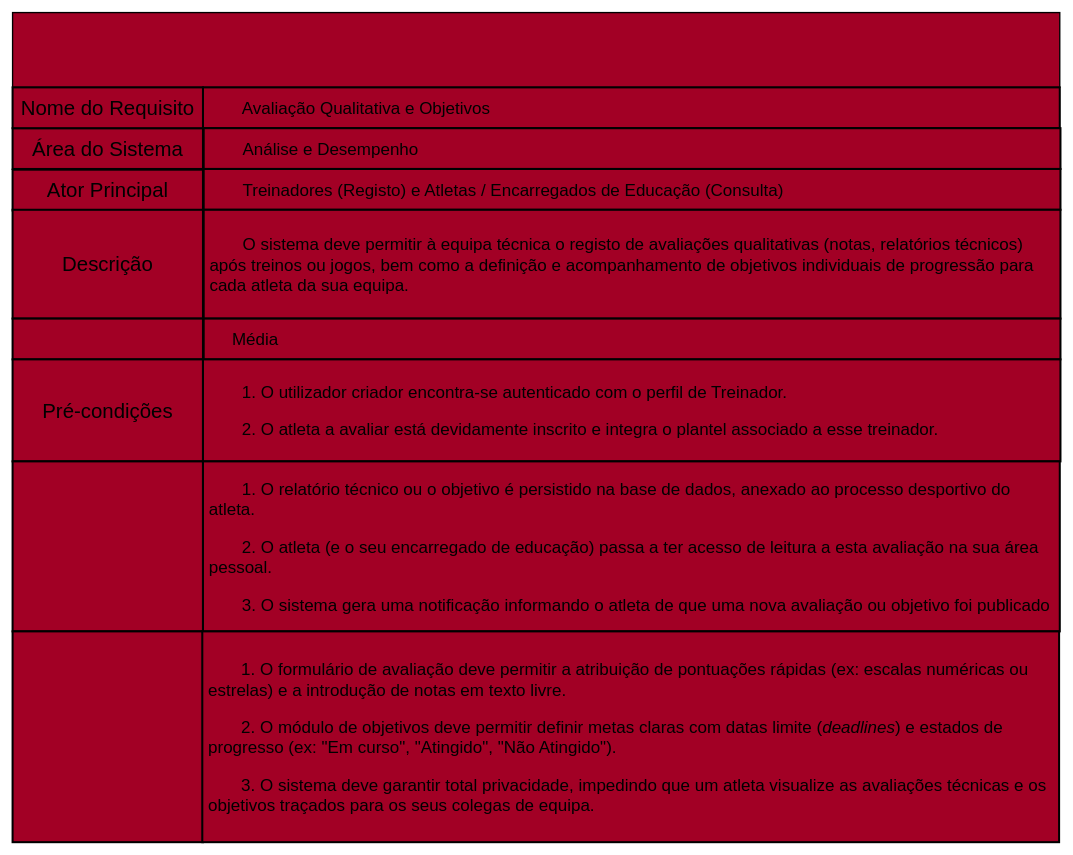
Image size: 1073x855. Some labels were removed from this diagram. The centre of each missing label's shape, as x and y in pixels:
"Critérios de Aceitação" belongs at point 107,736.
"Prioridade" belongs at point 107,338.
"Pós-condições" belongs at point 107,546.
"RF-16" belongs at point 536,50.
